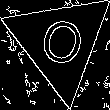O_S: (32, 11, 88, 75)
